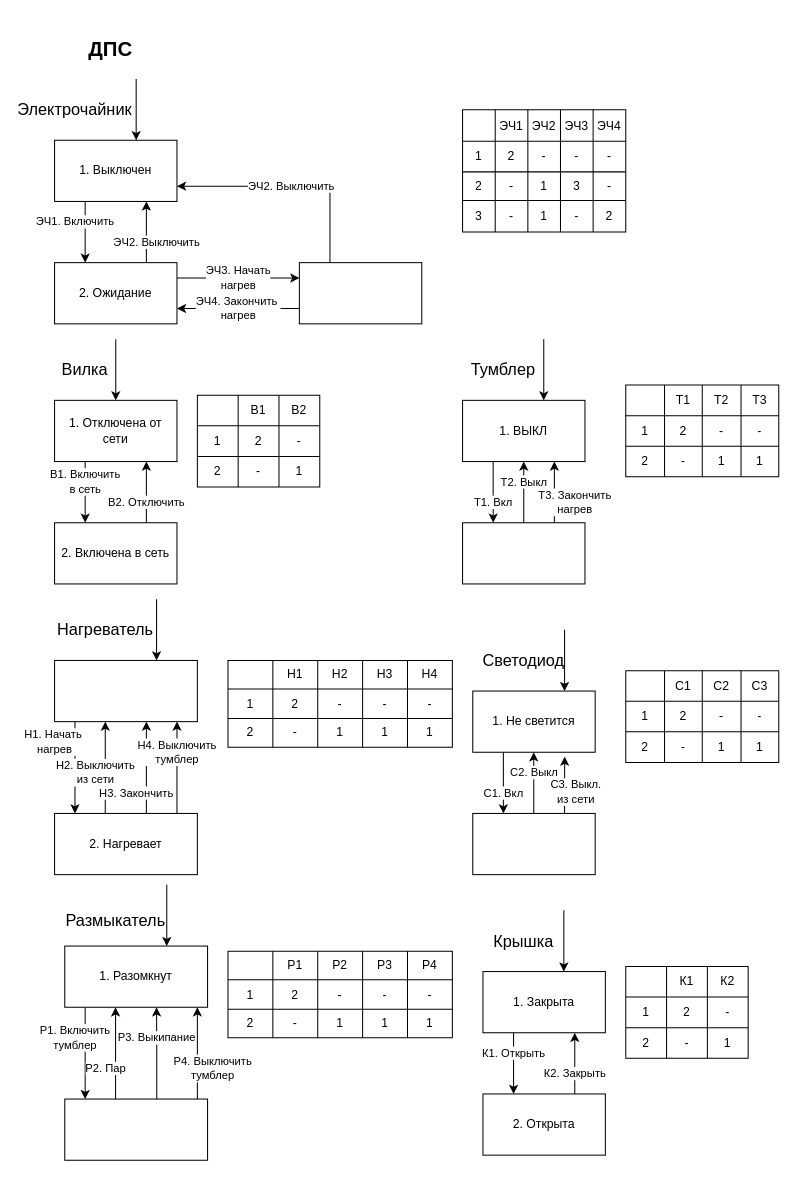
Some shapes in this 797 by 1178 pixel diagram are drawn without their labels. The shapes that lost their labels are listed below. From the top down, each one's centre as x and y in pixels, then its label:
point (360, 293): 3. Нагрев
point (523, 553): 2. ВКЛ
point (125, 690): 1. Не нагревает
point (533, 843): 2. Светится
point (136, 1129): 2. Сомкнут
